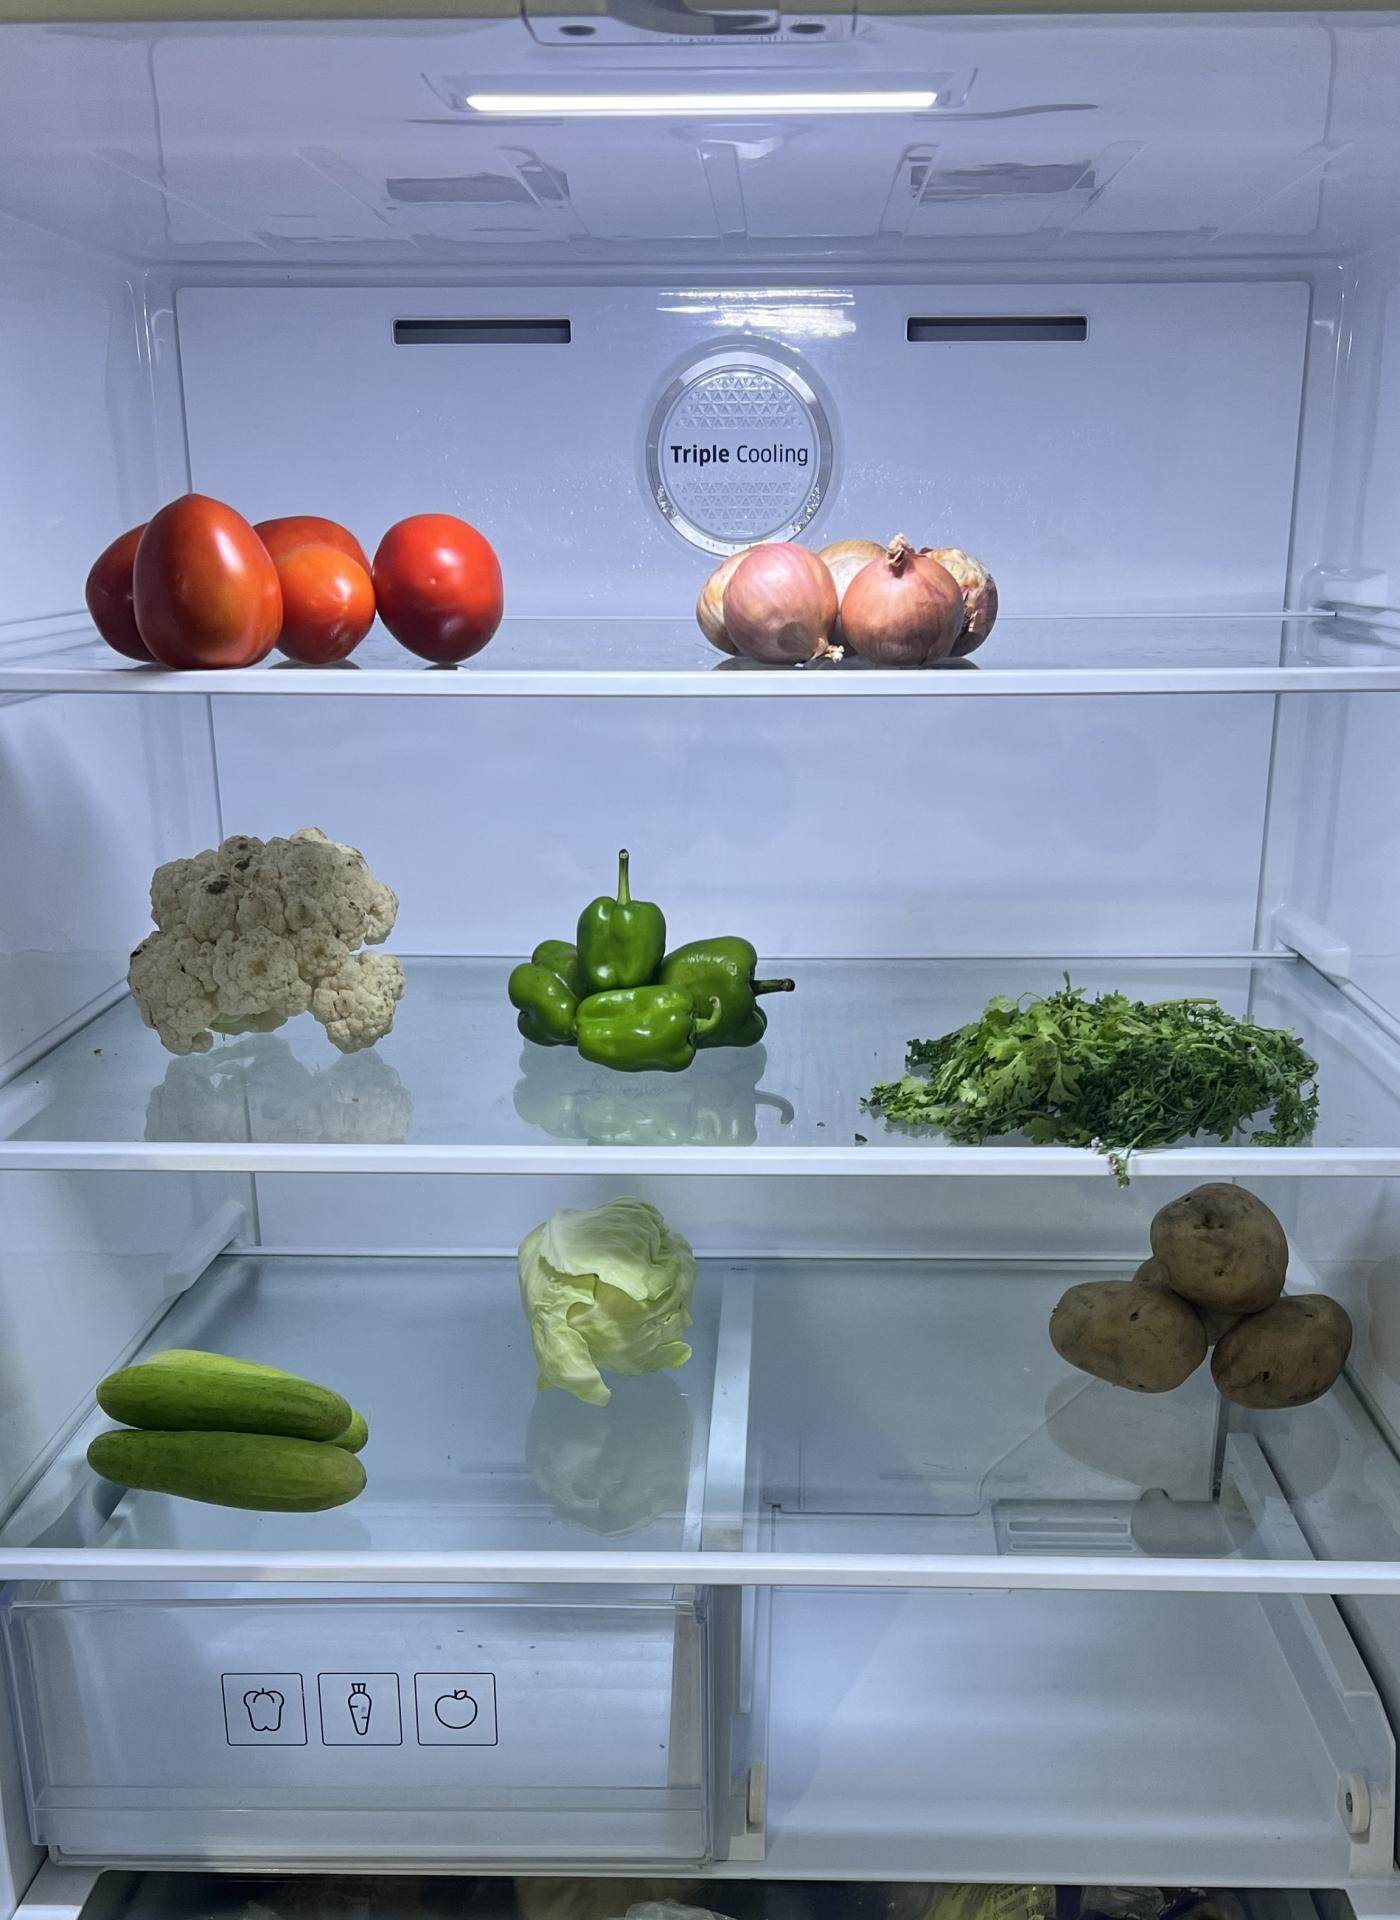cabbage: (522, 1203, 702, 1394)
capsicum: (513, 897, 774, 1081)
cauliflower: (133, 830, 412, 1061)
coriander: (878, 987, 1318, 1149)
cucumber: (81, 1351, 382, 1510)
onion: (698, 532, 1008, 671)
potato: (1048, 1179, 1357, 1403)
tomato: (83, 498, 514, 675)
